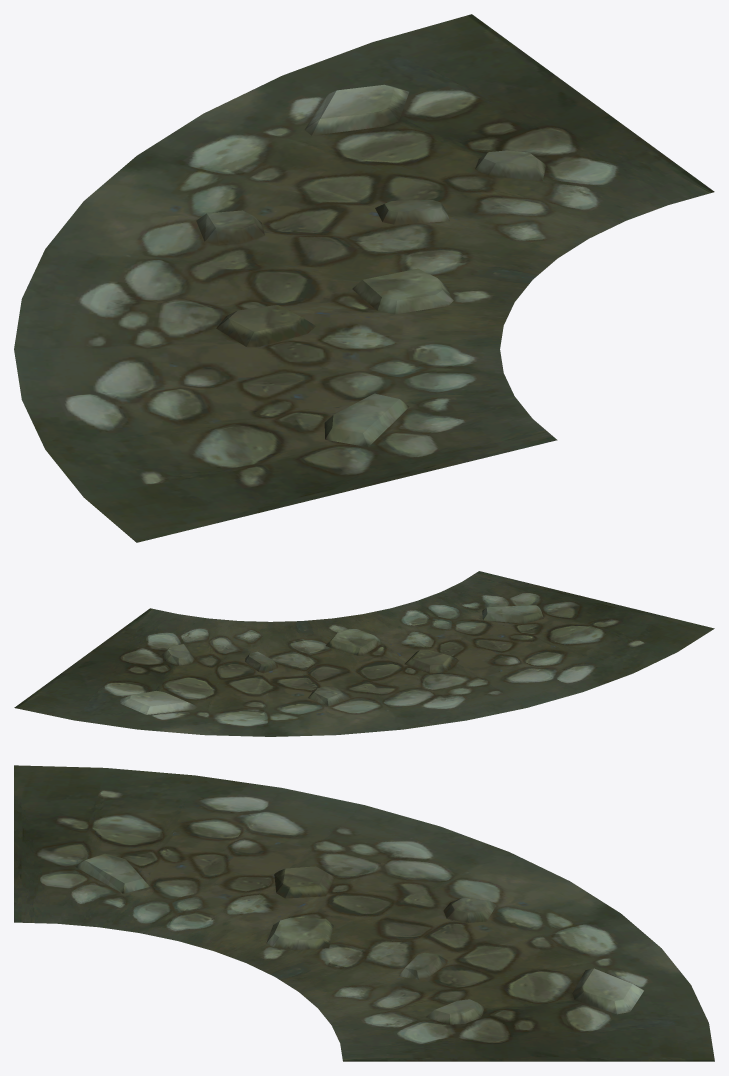
Rendered from road_curve_dirt1b.fbx.
The picture shows the model from 3 angles, top to bottom: view 1: azimuth 30°, elevation 25°; view 2: azimuth 150°, elevation 25°; view 3: azimuth 270°, elevation 25°; orthographic projection. The views are drawn at different scales.
Parts seen in each view (by area): view 1: obj0.053; view 2: obj0.053; view 3: obj0.053.
Boxes of the visible parts, x1,y1,x2,y2 form: obj0.053: [14, 14, 714, 542]; obj0.053: [14, 571, 714, 736]; obj0.053: [14, 765, 714, 1061].
Bounding box in the file's own units: 15.99 × 0.1764 × 15.99.
